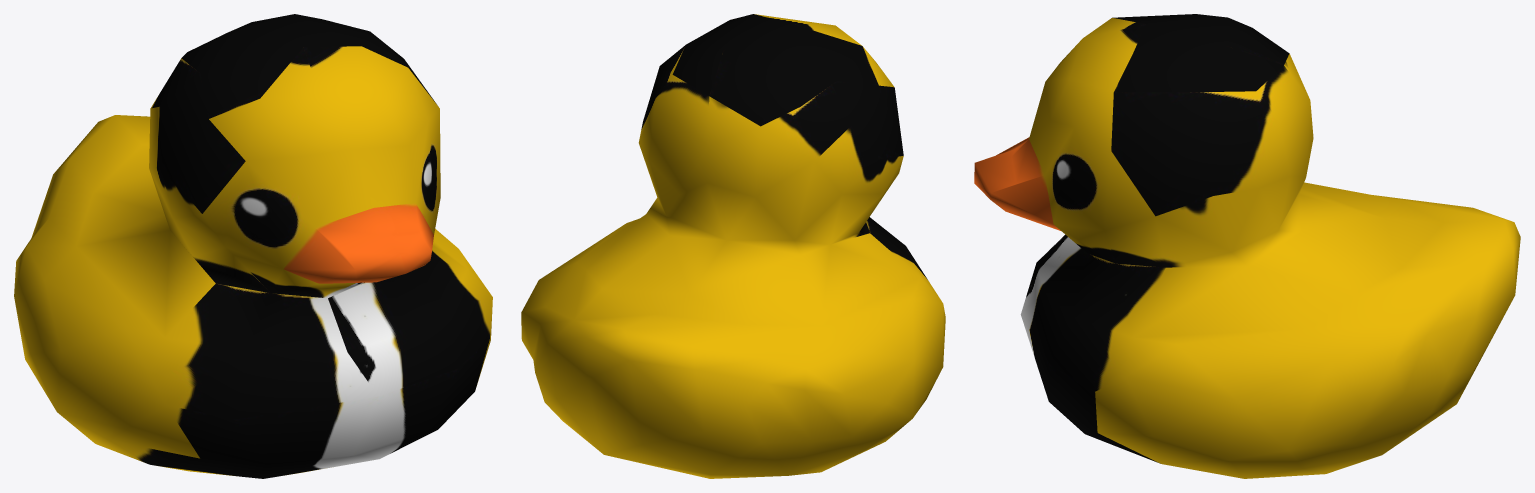
File: sisi.obj
3 views of the same model, side by side, from view 1: azimuth 30°, elevation 25°; view 2: azimuth 150°, elevation 25°; view 3: azimuth 270°, elevation 25° (orthographic). The views are drawn at different scales.
Parts seen in each view (by area): view 1: duck; view 2: duck; view 3: duck.
Boxes of the visible parts, box(x1,y1,x2,y2) form: duck: box(14, 14, 492, 478); duck: box(521, 14, 945, 478); duck: box(974, 14, 1520, 478).
Bounding box in the file's own units: 0.7216 × 0.706 × 0.9037.
Materials: 2 (1 with a texture image).
